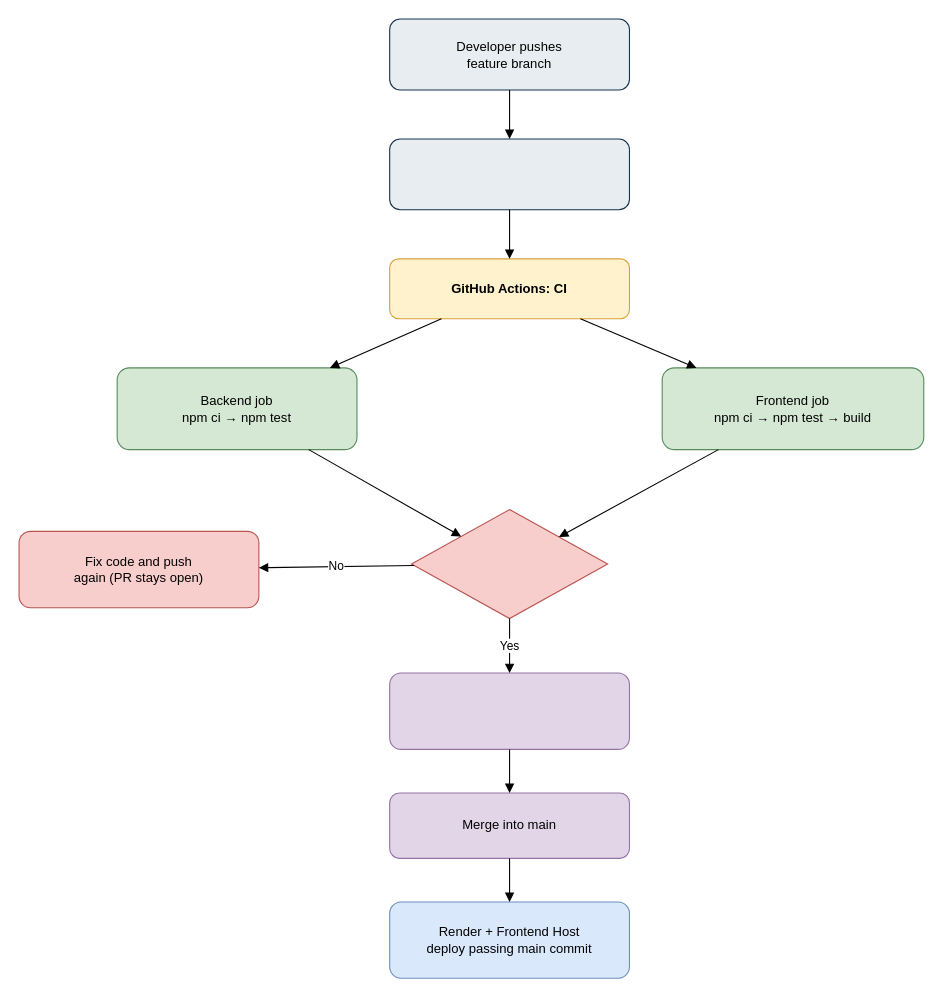
The diagram is 943 pixels wide and 997 high, and some of its shapes have lost their labels. Each missing label, with the centre of its shape:
"All checks passed?" goes at pixel 509 563.
"Open pull request into main" goes at pixel 509 174.
"Partner reviews and approves PR" goes at pixel 509 710.
